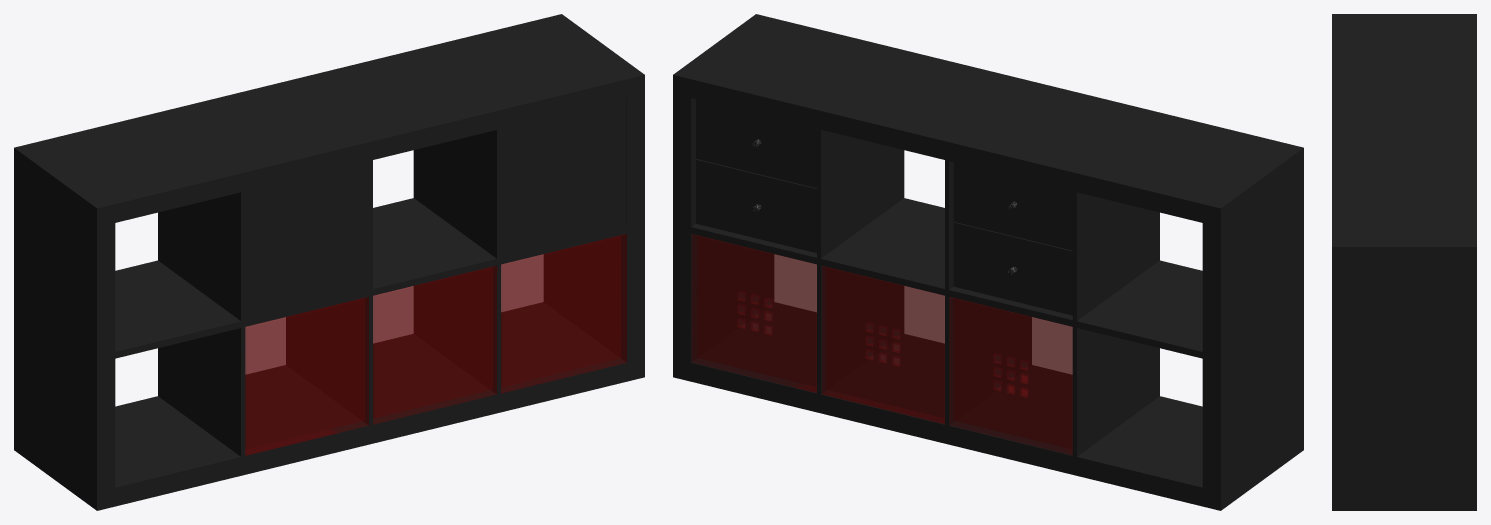
The picture shows the model from 3 angles, left to right: view 1: azimuth 30°, elevation 25°; view 2: azimuth 150°, elevation 25°; view 3: azimuth 270°, elevation 25°; orthographic projection. The views are drawn at different scales.
Visible parts, largest first — view 1: mesh1_mesh1-geometry, mesh5_mesh5-geometry, mesh6_mesh6-geometry; view 2: mesh1_mesh1-geometry, mesh5_mesh5-geometry, mesh6_mesh6-geometry; view 3: mesh1_mesh1-geometry.
Part boxes in pixels (box(x1,y1,x2,y2)): mesh1_mesh1-geometry: box(14, 14, 644, 510); mesh5_mesh5-geometry: box(245, 234, 626, 455); mesh6_mesh6-geometry: box(245, 98, 626, 319); mesh1_mesh1-geometry: box(673, 14, 1303, 510); mesh5_mesh5-geometry: box(691, 234, 1072, 454); mesh6_mesh6-geometry: box(696, 99, 1072, 315); mesh1_mesh1-geometry: box(1332, 14, 1476, 510).
Size of the model in its own units: 0.8615 by 0.4546 by 0.2264.
